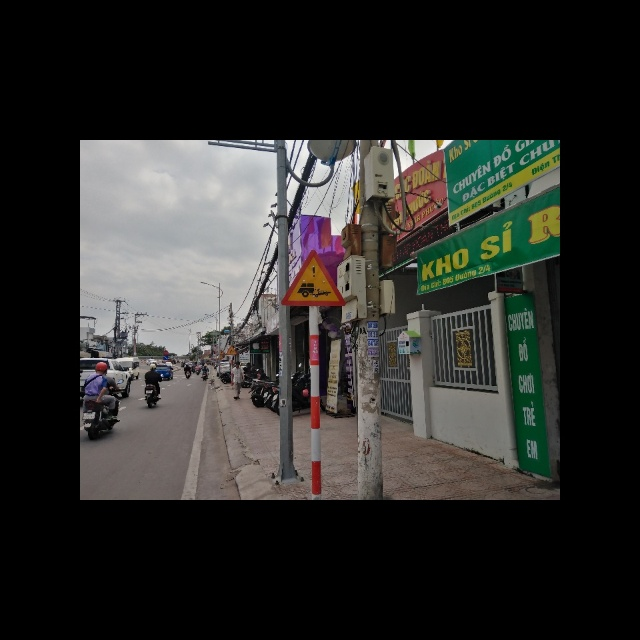Đoạn đường hay xảy ra tai nạn: (281, 249, 345, 307)
Đường đôi: (225, 344, 238, 356)
